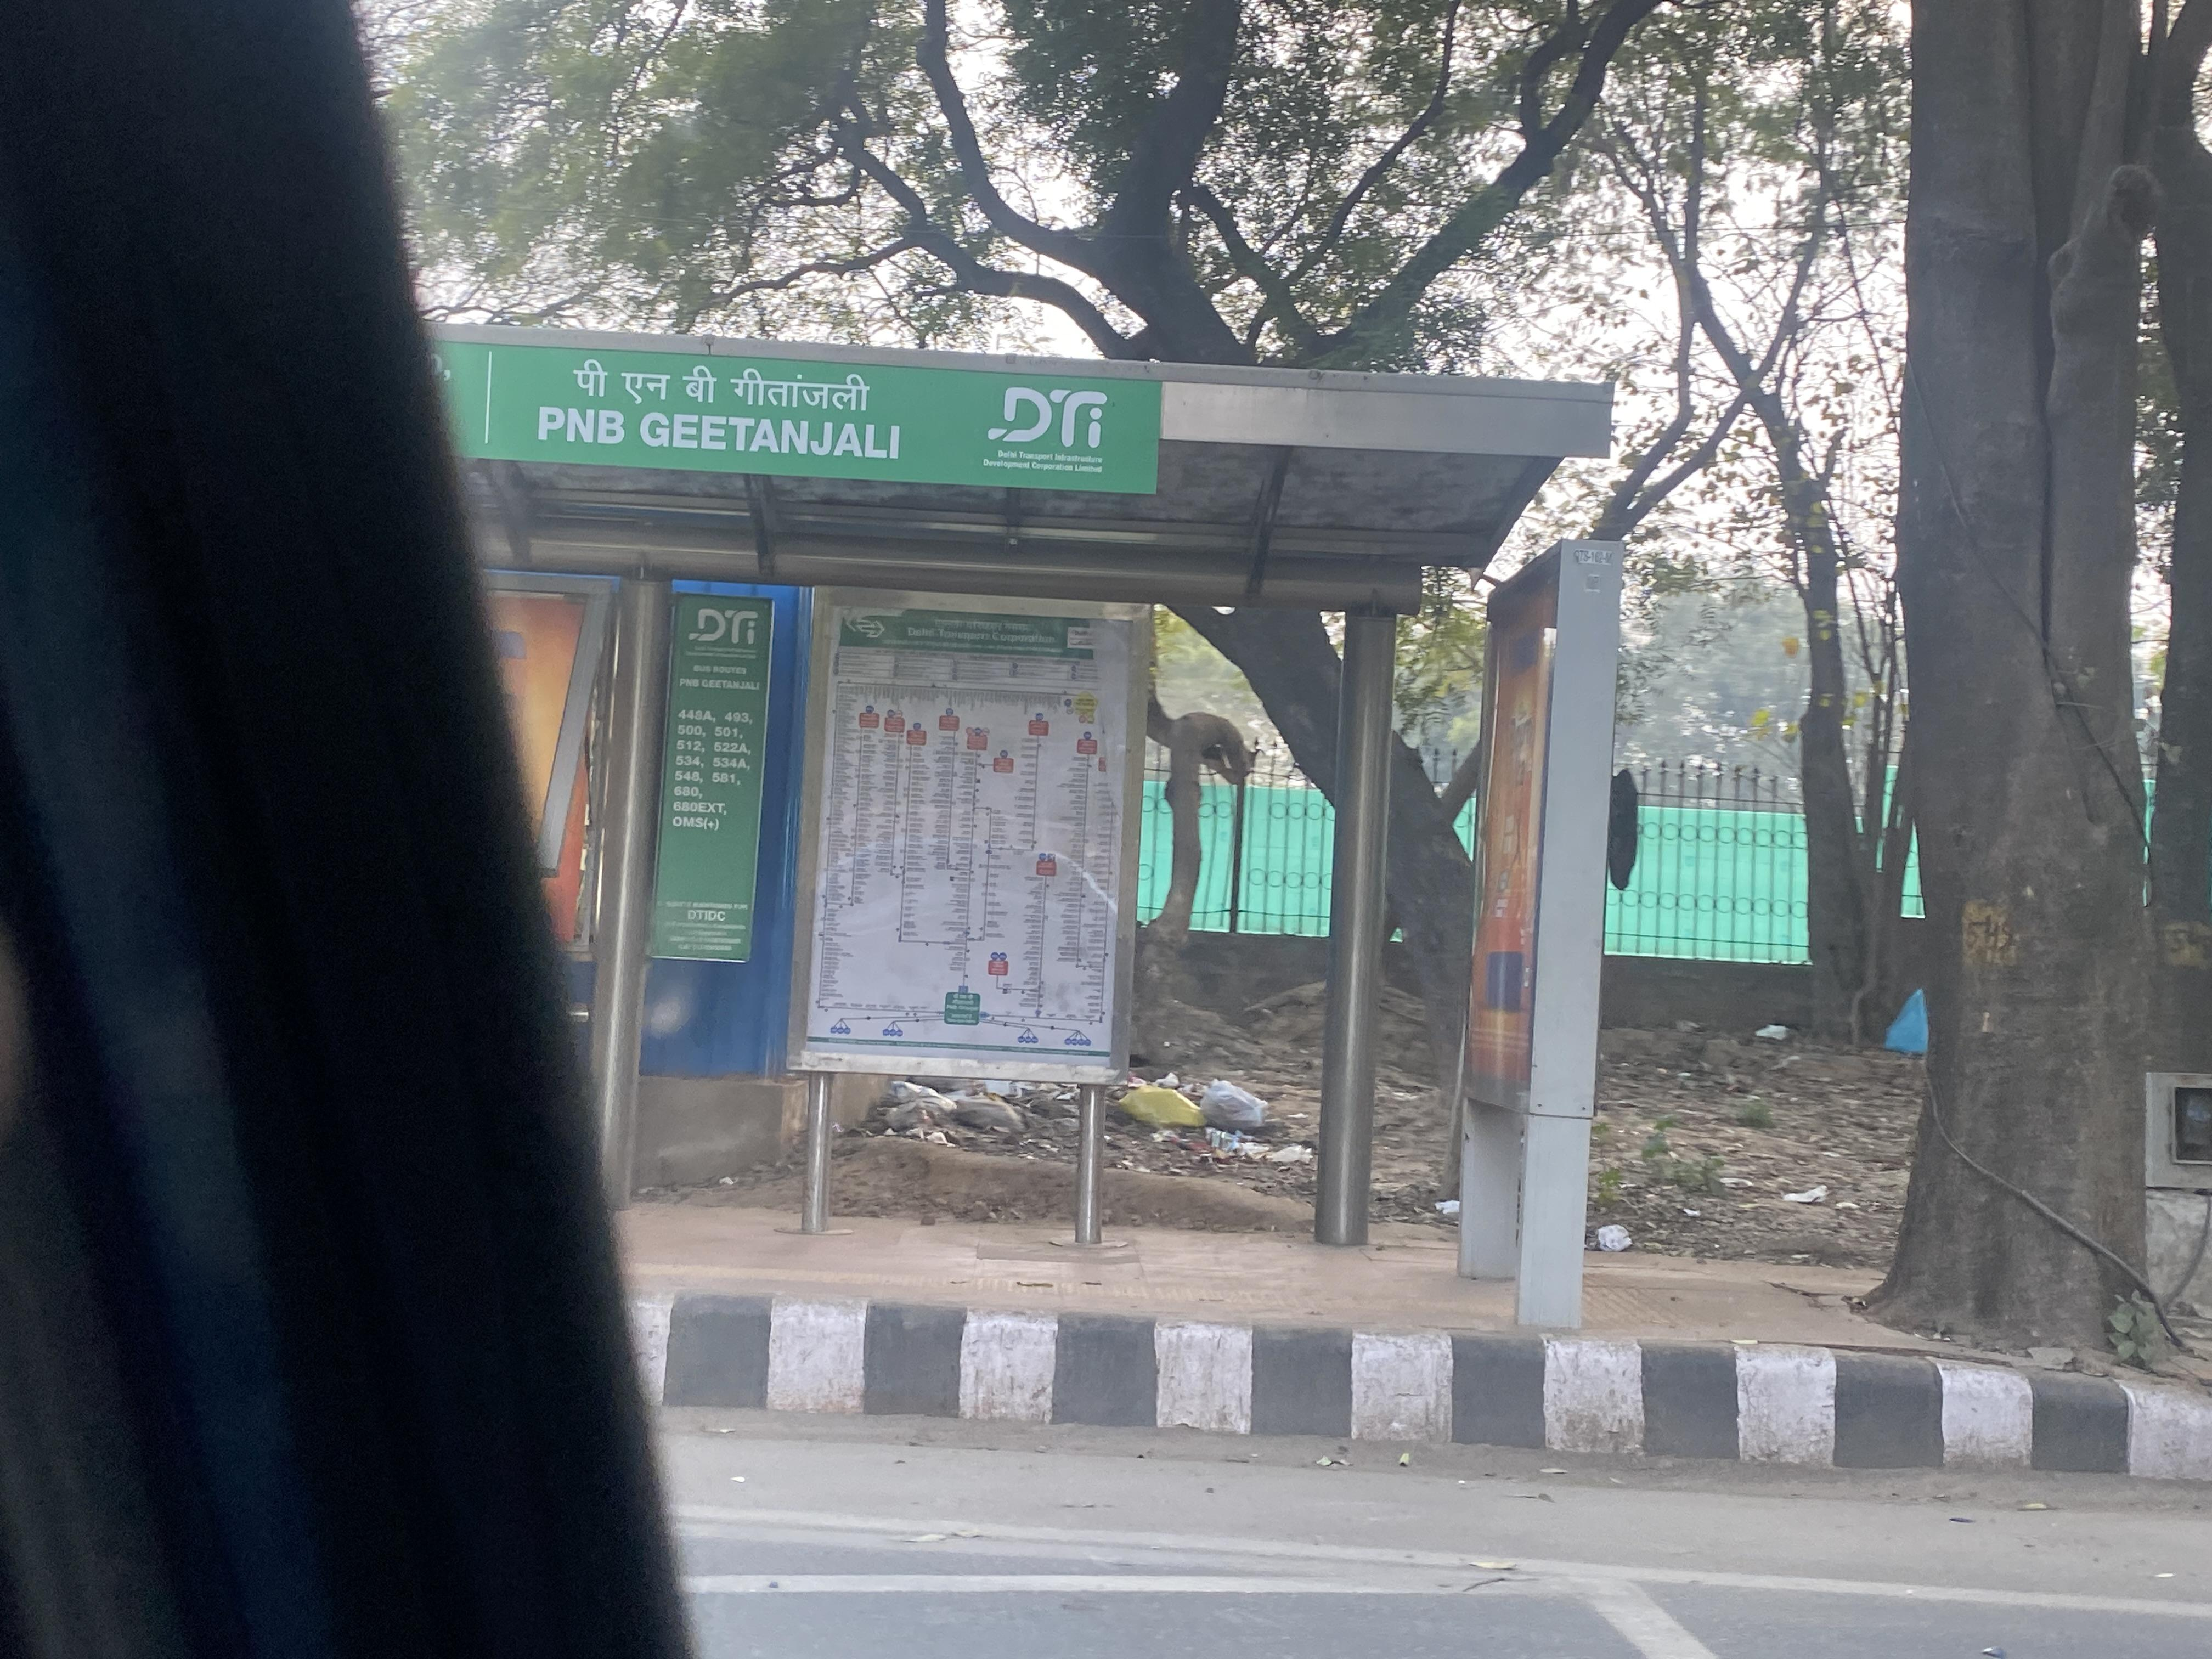Bus-stop-board: (423, 319, 1230, 505)
